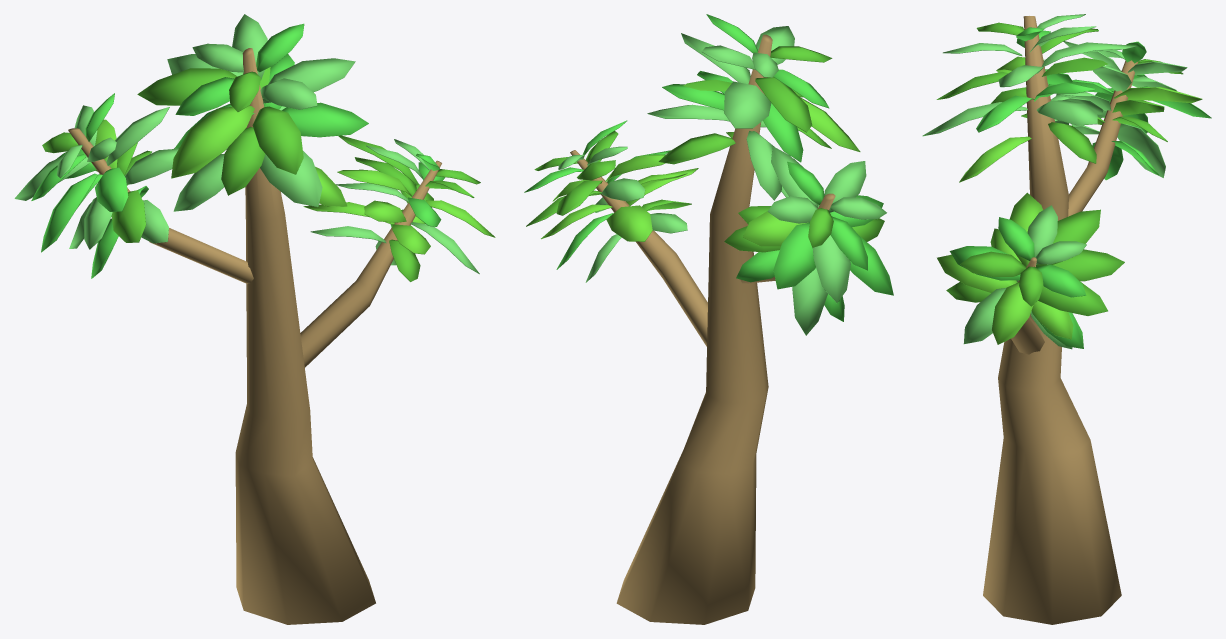
Rendered from Tree2.fbx.
3 renders of one model, left to right at view 1: azimuth 30°, elevation 25°; view 2: azimuth 150°, elevation 25°; view 3: azimuth 270°, elevation 25°, orthographic. The views are drawn at different scales.
Parts seen in each view (by area): view 1: Tree trunk 1; view 2: Tree trunk 1; view 3: Tree trunk 1.
Boxes of the visible parts, <box> form: Tree trunk 1: <box>14,14,495,624</box>; Tree trunk 1: <box>524,14,893,624</box>; Tree trunk 1: <box>922,14,1211,624</box>.
Bounding box in the file's own units: 81.48 × 113 × 53.1.
